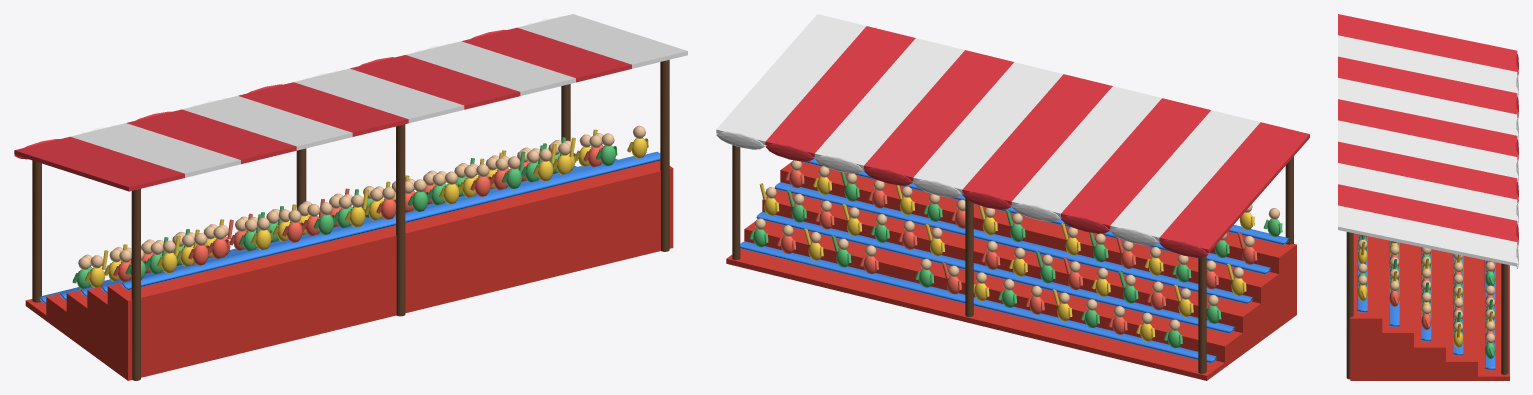
Rendered from RockinRacewayStand.obj.
The picture shows the model from 3 angles, left to right: view 1: azimuth 30°, elevation 25°; view 2: azimuth 150°, elevation 25°; view 3: azimuth 270°, elevation 25°; orthographic projection. The views are drawn at different scales.
Visible parts, largest first — view 1: Frame, AwningA, AwningB, Posts, Heads, Seats, FansC, FansB, FansA; view 2: AwningA, AwningB, Frame, Seats, Heads, FansB, FansC, FansA, Posts; view 3: AwningB, AwningA, Frame, Heads, Posts, Seats, FansC, FansB, FansA.
Boxes of the visible parts, <box> form: Frame: <box>25,160,673,380</box>; AwningA: <box>14,27,631,191</box>; AwningB: <box>71,14,687,177</box>; Posts: <box>32,60,669,380</box>; Heads: <box>78,125,645,269</box>; Seats: <box>39,151,660,304</box>; FansC: <box>84,129,648,287</box>; FansB: <box>72,137,617,289</box>; FansA: <box>113,145,604,281</box>; AwningA: <box>765,26,1309,257</box>; AwningB: <box>716,14,1260,245</box>; Frame: <box>726,161,1296,380</box>; Seats: <box>740,157,1288,363</box>; Heads: <box>754,160,1279,330</box>; FansB: <box>749,172,1282,348</box>; FansC: <box>759,169,1254,341</box>; FansA: <box>777,170,1257,334</box>; Posts: <box>732,145,1293,373</box>; AwningB: <box>1338,35,1518,268</box>; AwningA: <box>1338,14,1518,245</box>; Frame: <box>1350,233,1509,380</box>; Heads: <box>1357,234,1494,343</box>; Posts: <box>1346,232,1508,379</box>; Seats: <box>1357,234,1495,370</box>; FansC: <box>1357,241,1495,347</box>; FansB: <box>1357,235,1495,358</box>; FansA: <box>1357,234,1495,343</box>.
Bounding box in the file's own units: 41 × 14.1 × 14.74.
